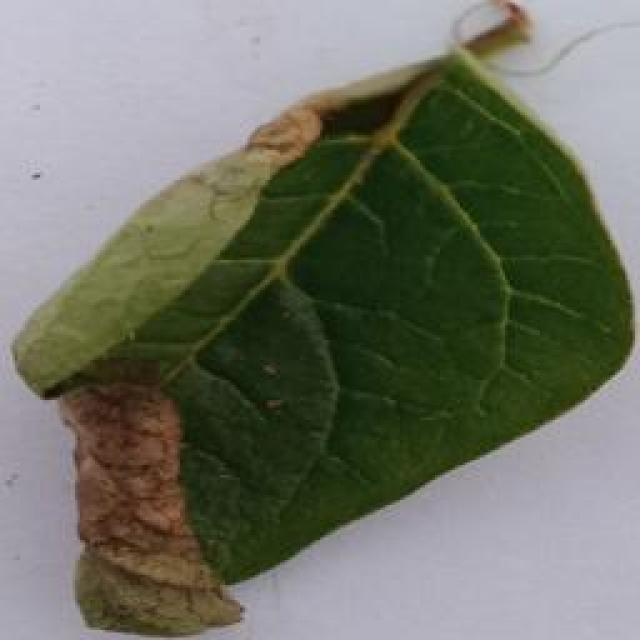Potato_Late_Blight: (12, 12, 622, 638)
